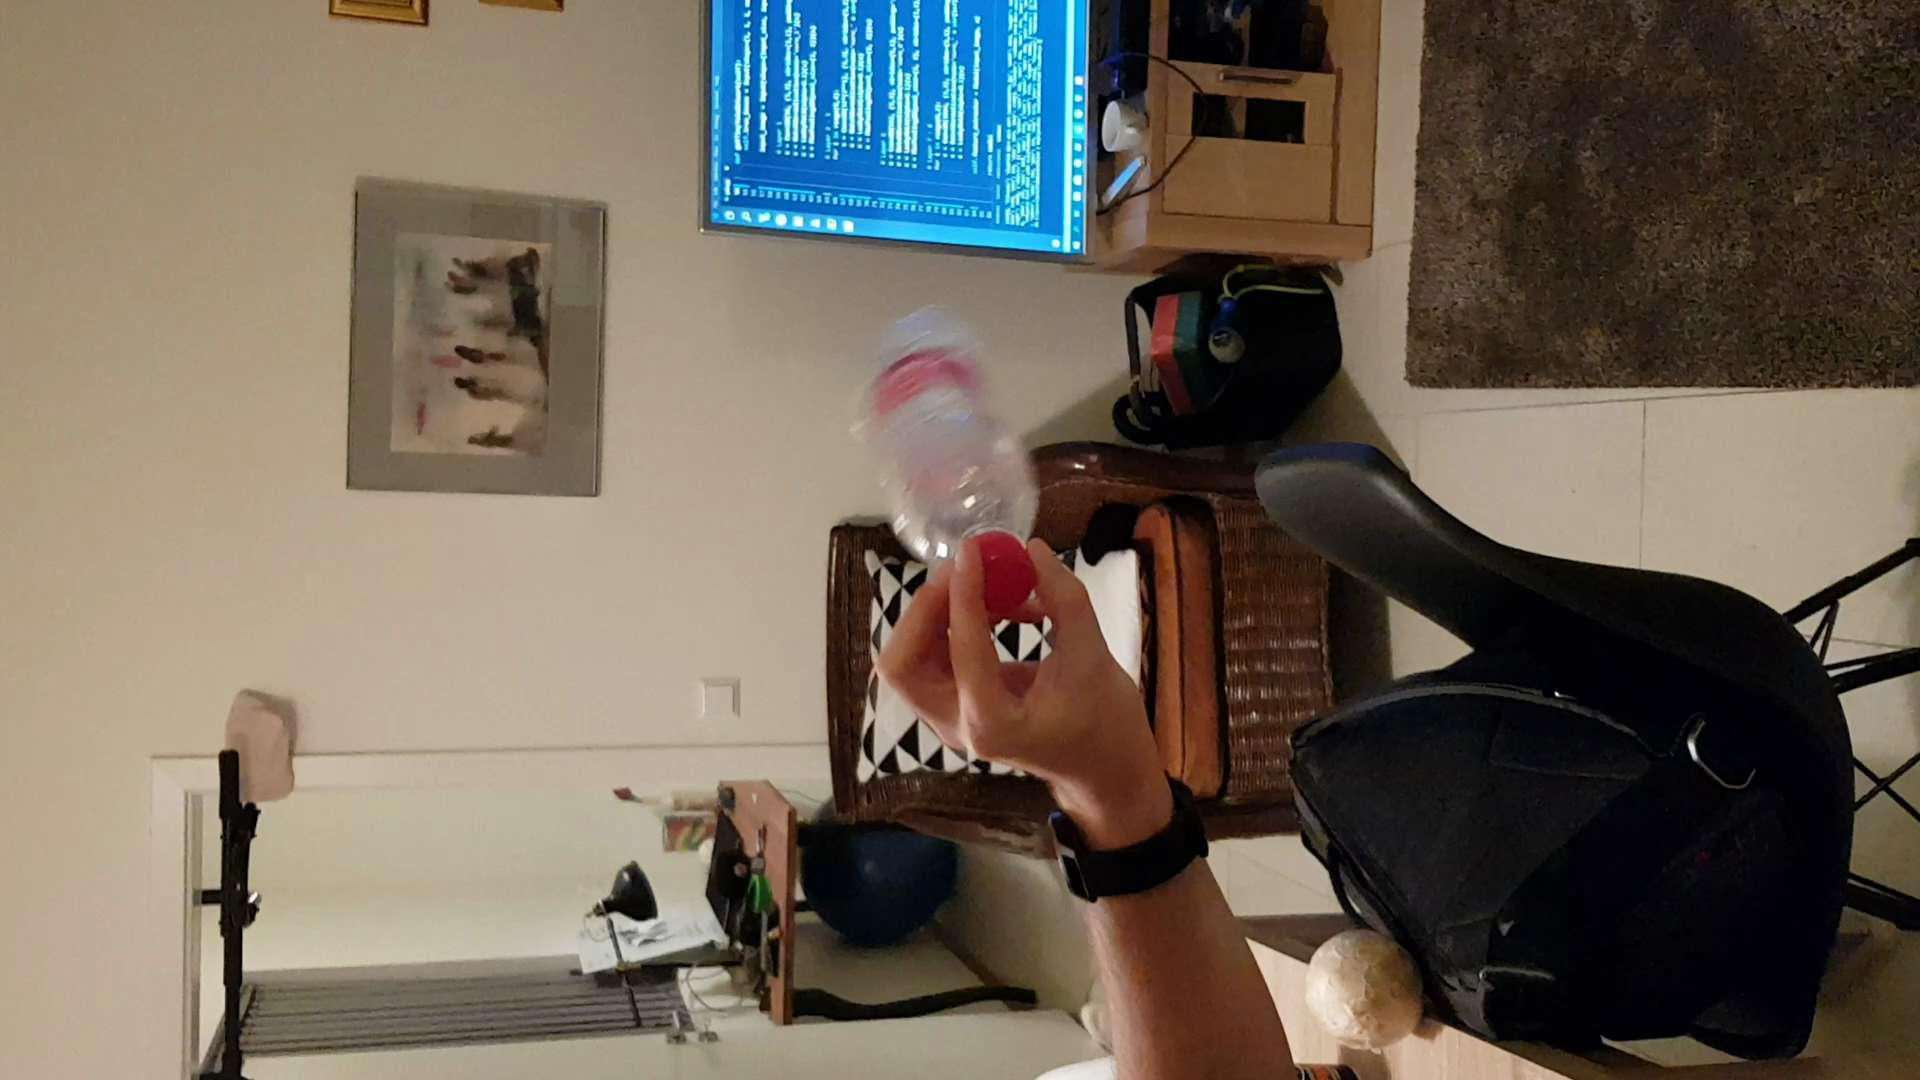Bottle: (843, 287, 1051, 611)
